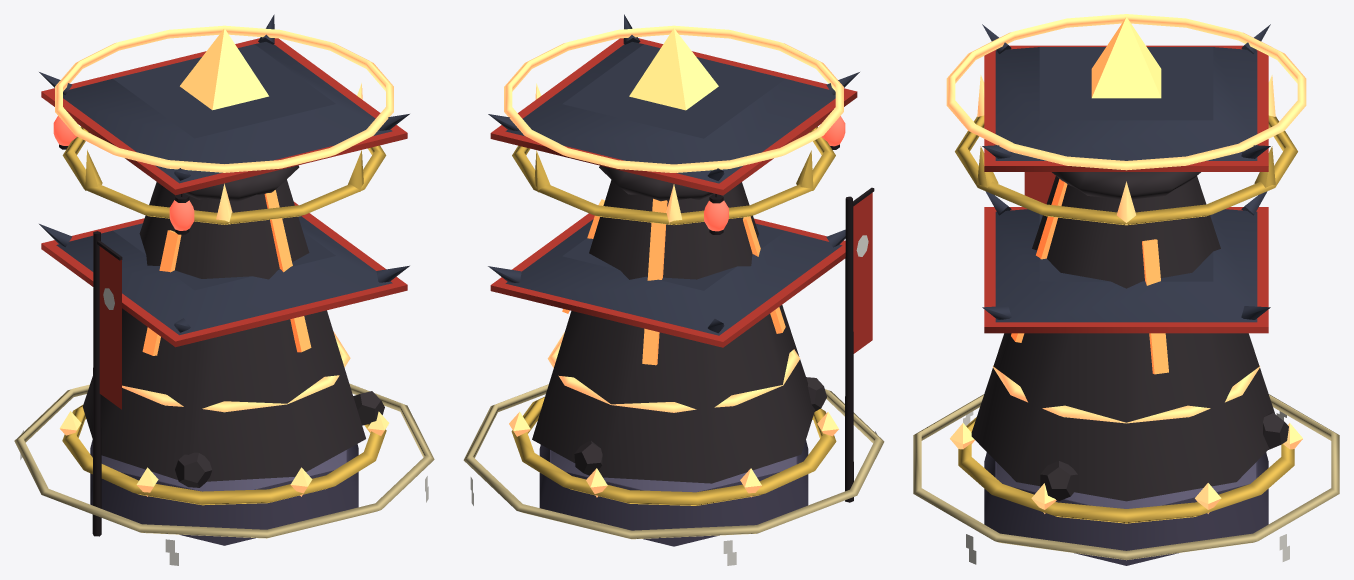
The model's file is tower_element_elementVolcano_ultimate.glb.
3 views of the same model, side by side, from view 1: azimuth 30°, elevation 25°; view 2: azimuth 150°, elevation 25°; view 3: azimuth 270°, elevation 25° (orthographic). The views are drawn at different scales.
Visible parts, largest first — view 1: volcano, deco_eave_0_roof, deco_eave_1_roof, base, ult_halo, deco_shimenawa_rope, deco_eave_1_rim, deco_eave_0_rim, ult_ring, ult_crown_band, crystal, deco_nobori_cloth (+11 smaller); view 2: volcano, deco_eave_0_roof, deco_eave_1_roof, base, ult_halo, deco_shimenawa_rope, deco_eave_1_rim, ult_ring, deco_eave_0_rim, ult_crown_band, crystal, deco_nobori_cloth (+10 smaller); view 3: volcano, deco_eave_0_roof, deco_eave_1_roof, base, ult_halo, deco_shimenawa_rope, deco_eave_1_rim, ult_ring, ult_crown_band, deco_eave_0_rim, crystal, volcano_rim (+9 smaller).
Part boxes in pixels (left/top/right/bottom): volcano: left=82, top=179, right=365, bottom=481; deco_eave_0_roof: left=63, top=42, right=392, bottom=183; deco_eave_1_roof: left=56, top=216, right=392, bottom=335; base: left=90, top=439, right=358, bottom=545; ult_halo: left=55, top=25, right=393, bottom=172; deco_shimenawa_rope: left=14, top=383, right=434, bottom=538; deco_eave_1_rim: left=41, top=202, right=407, bottom=347; deco_eave_0_rim: left=41, top=38, right=407, bottom=195; ult_ring: left=62, top=405, right=386, bottom=505; ult_crown_band: left=62, top=126, right=386, bottom=224; crystal: left=180, top=28, right=268, bottom=110; deco_nobori_cloth: left=99, top=246, right=121, bottom=409; volcano: left=532, top=180, right=815, bottom=483; deco_eave_0_roof: left=505, top=42, right=835, bottom=183; deco_eave_1_roof: left=505, top=219, right=842, bottom=335; base: left=539, top=440, right=808, bottom=546; ult_halo: left=504, top=25, right=843, bottom=172; deco_shimenawa_rope: left=463, top=384, right=884, bottom=539; deco_eave_1_rim: left=490, top=213, right=845, bottom=347; ult_ring: left=511, top=396, right=836, bottom=505; deco_eave_0_rim: left=490, top=38, right=857, bottom=195; ult_crown_band: left=512, top=126, right=835, bottom=224; crystal: left=629, top=28, right=718, bottom=110; deco_nobori_cloth: left=853, top=192, right=872, bottom=353; volcano: left=971, top=172, right=1274, bottom=501; deco_eave_0_roof: left=995, top=47, right=1257, bottom=160; deco_eave_1_roof: left=995, top=209, right=1257, bottom=322; base: left=984, top=452, right=1268, bottom=565; ult_halo: left=946, top=14, right=1306, bottom=170; deco_shimenawa_rope: left=913, top=394, right=1339, bottom=560; deco_eave_1_rim: left=984, top=207, right=1268, bottom=333; ult_ring: left=958, top=417, right=1294, bottom=523; ult_crown_band: left=955, top=115, right=1297, bottom=225; deco_eave_0_rim: left=984, top=45, right=1268, bottom=171; crystal: left=1091, top=17, right=1161, bottom=98; volcano_rim: left=1052, top=172, right=1200, bottom=199.
Size of the model in its own units: 0.5326 by 0.629 by 0.5066.
